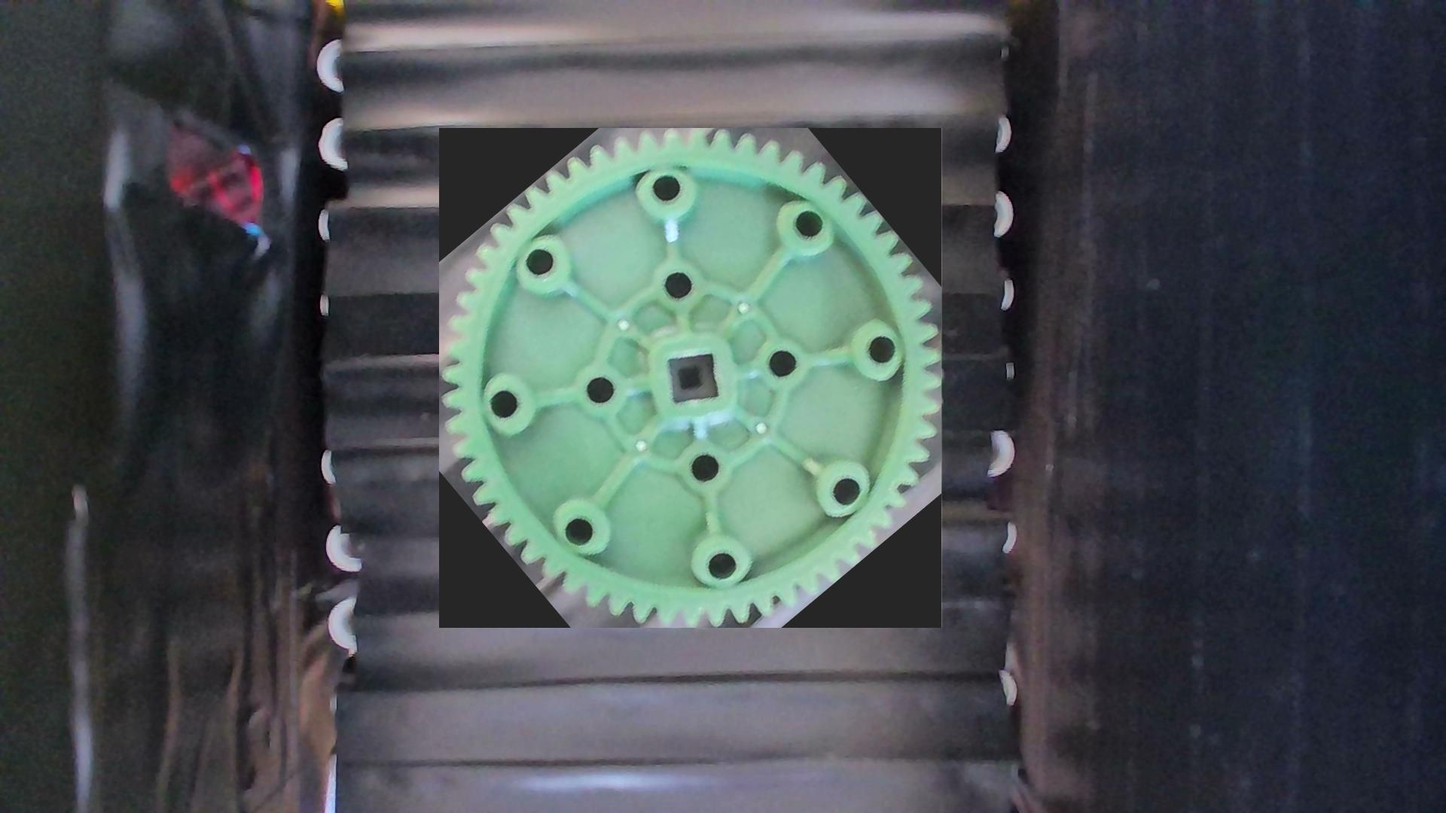gear: (440, 128, 943, 628)
